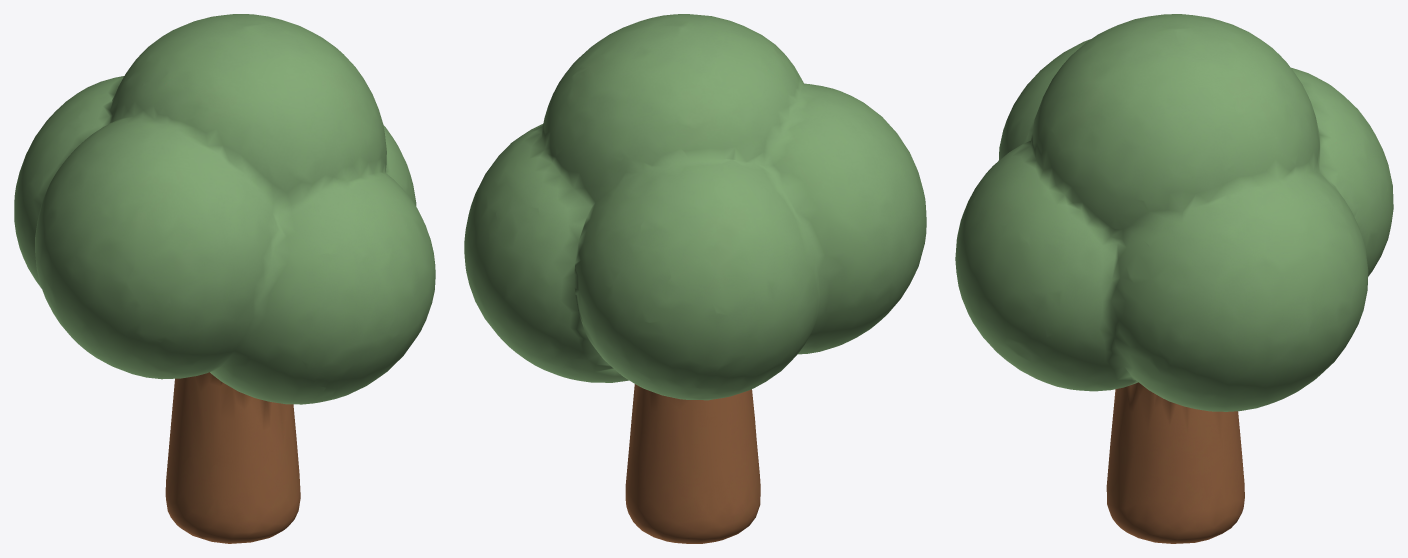
Rendered from tree.glb.
The picture shows the model from 3 angles, left to right: view 1: azimuth 30°, elevation 25°; view 2: azimuth 150°, elevation 25°; view 3: azimuth 270°, elevation 25°; orthographic projection.
Parts seen in each view (by area): view 1: tripo_node_577d1a42-0da5-485e-a839-d6fe0434d3f1; view 2: tripo_node_577d1a42-0da5-485e-a839-d6fe0434d3f1; view 3: tripo_node_577d1a42-0da5-485e-a839-d6fe0434d3f1.
Part boxes in pixels (<box>): tripo_node_577d1a42-0da5-485e-a839-d6fe0434d3f1: <box>14,14,435,543</box>; tripo_node_577d1a42-0da5-485e-a839-d6fe0434d3f1: <box>464,14,926,543</box>; tripo_node_577d1a42-0da5-485e-a839-d6fe0434d3f1: <box>955,14,1393,543</box>.
Size of the model in its own units: 0.8142 by 1 by 0.7904.
1 material, 1 textured.
